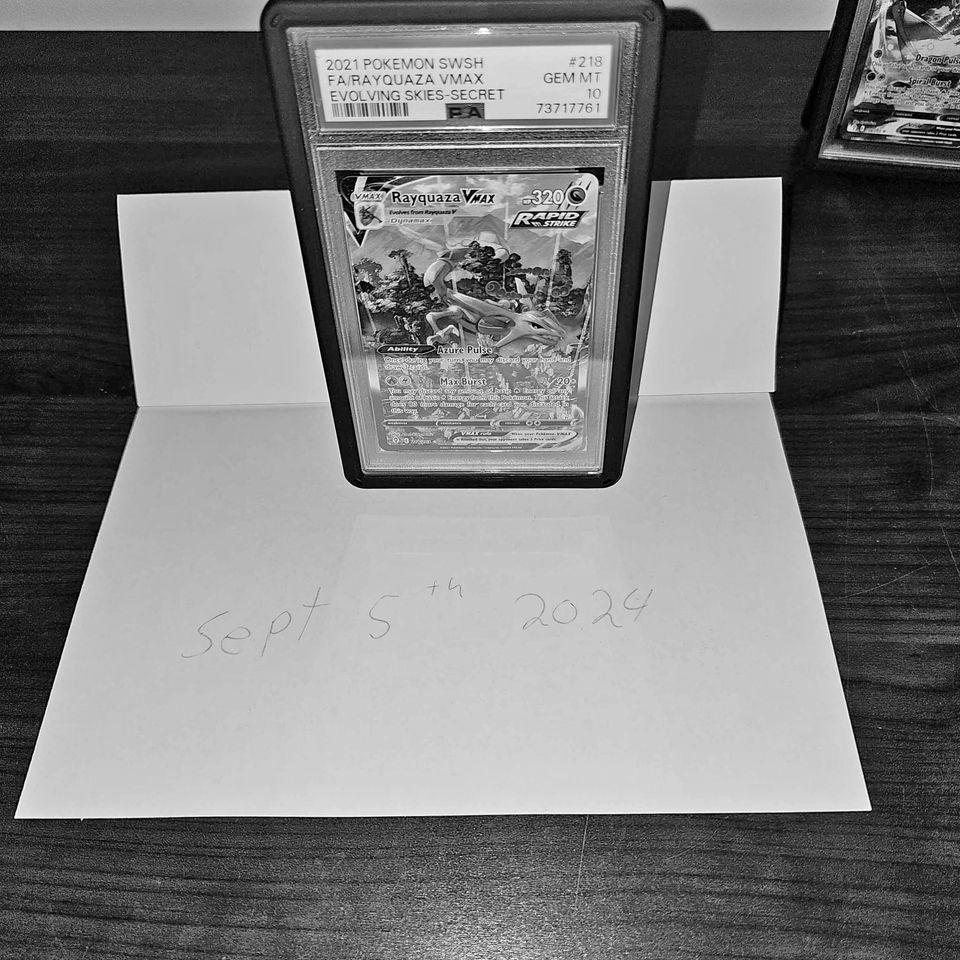card: (339, 173, 599, 453)
